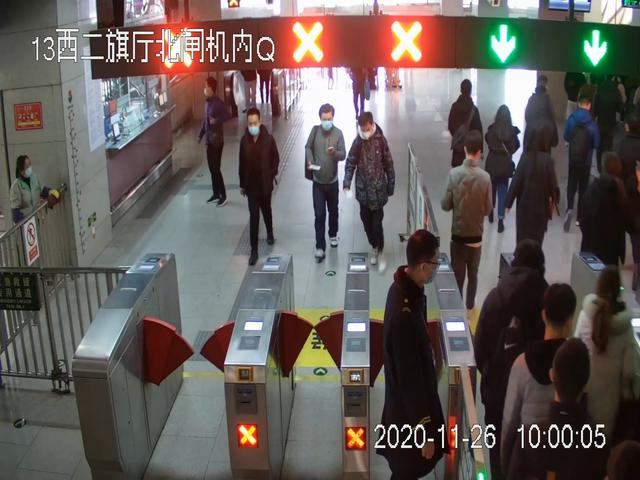person: (499, 284, 592, 480), (475, 239, 557, 460), (376, 229, 447, 480), (575, 266, 640, 480), (441, 131, 493, 313), (344, 112, 396, 273), (506, 123, 560, 257), (304, 103, 346, 264), (238, 108, 280, 268), (9, 154, 57, 290), (447, 80, 483, 206), (485, 104, 520, 233), (562, 94, 594, 232), (199, 78, 231, 205)
